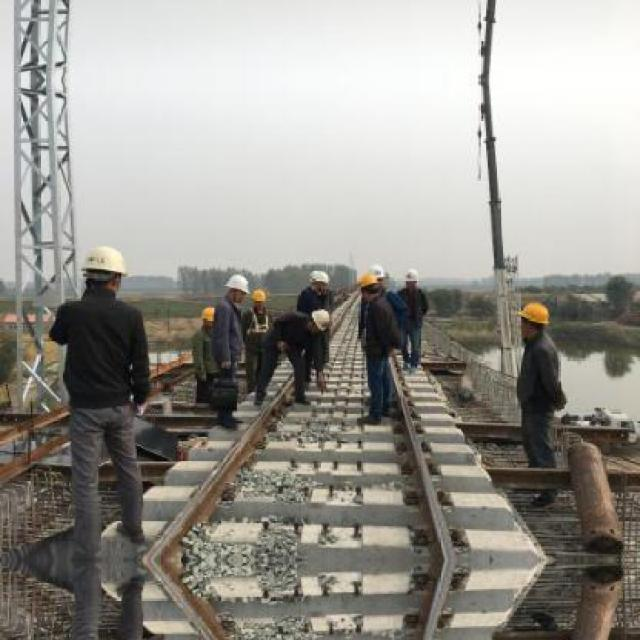boots: (116, 521, 144, 543), (530, 493, 554, 507)
hard-hat: (80, 245, 128, 278), (515, 302, 549, 325)
person: (48, 244, 152, 552), (48, 245, 151, 551), (515, 302, 567, 506)
